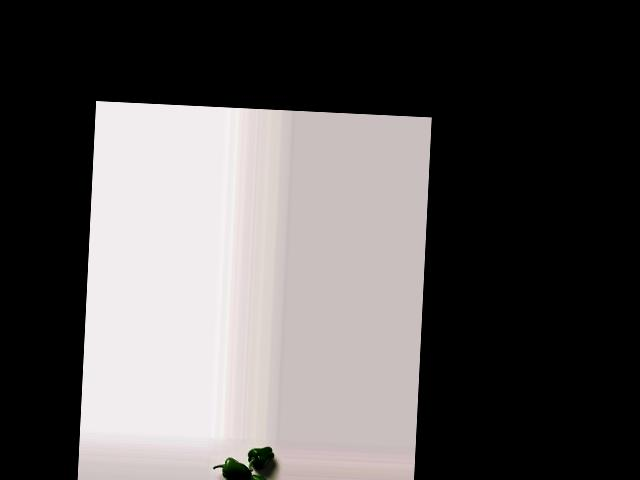bell_pepper: (250, 472, 272, 480)
